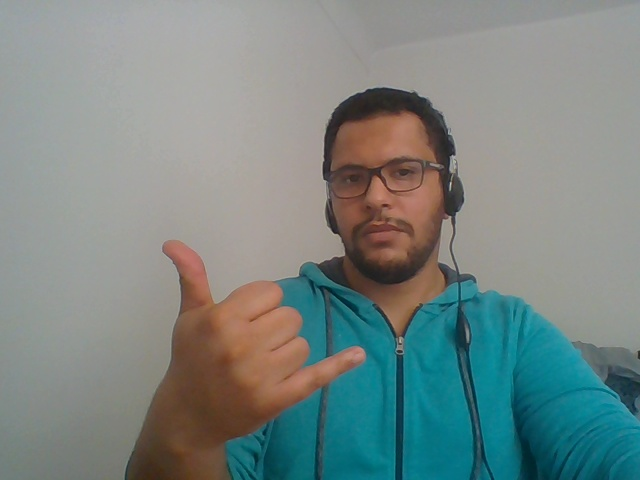callme: (132, 207, 371, 466)
